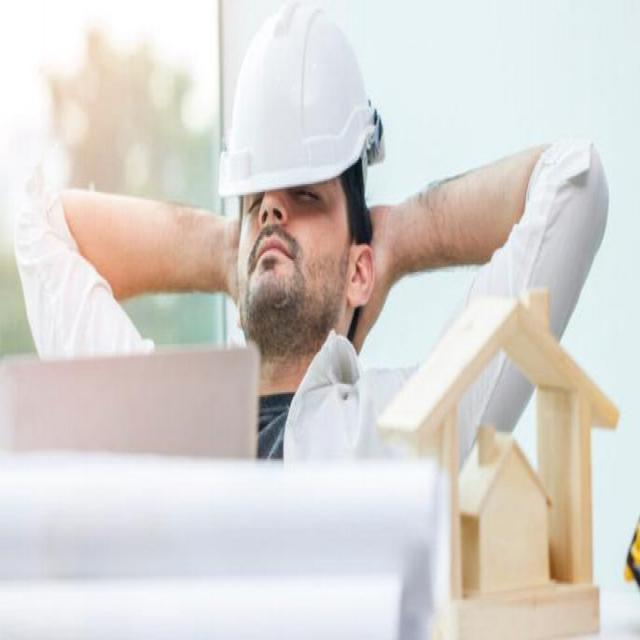Safety-Helmet: (214, 5, 382, 206)
